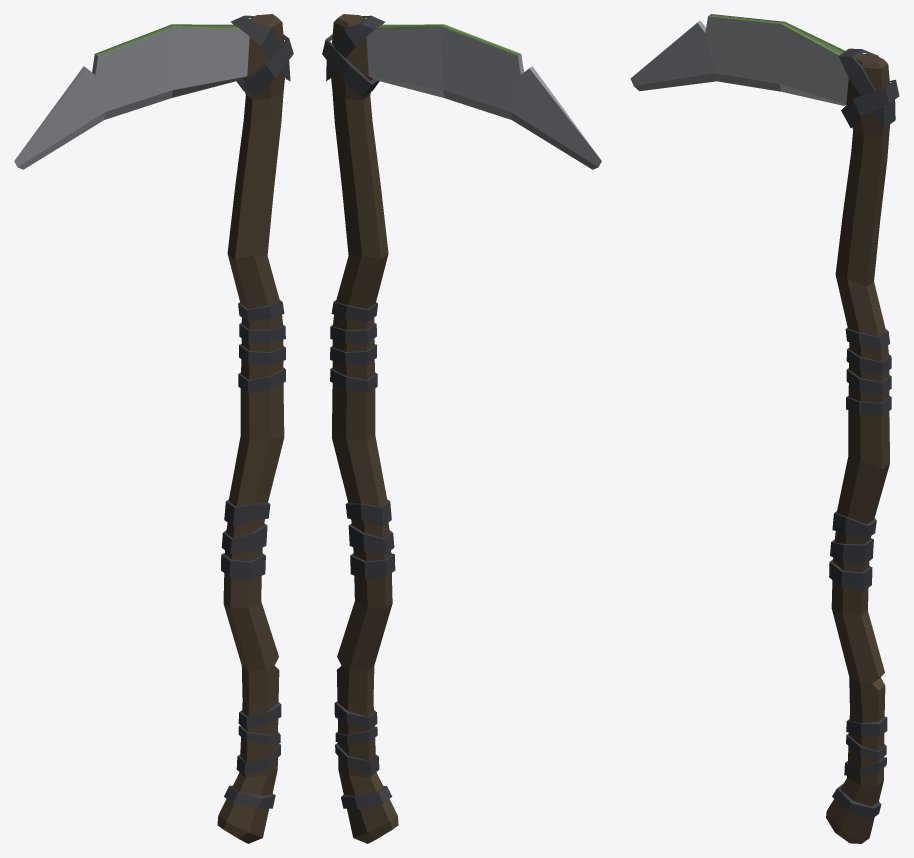
The model's file is Sythe.glb.
3 renders of one model, left to right at view 1: azimuth 30°, elevation 25°; view 2: azimuth 150°, elevation 25°; view 3: azimuth 330°, elevation 25°, orthographic. The views are drawn at different scales.
Visible parts, largest first — view 1: Sythe_A; view 2: Sythe_A; view 3: Sythe_A.
Boxes of the visible parts, x1=… form: Sythe_A: x1=14, y1=14, x2=293, y2=843; Sythe_A: x1=322, y1=14, x2=601, y2=843; Sythe_A: x1=630, y1=14, x2=899, y2=843.
Size of the model in its own units: 14435 by 41942 by 1956.
Materials: 1 (1 with a texture image).
